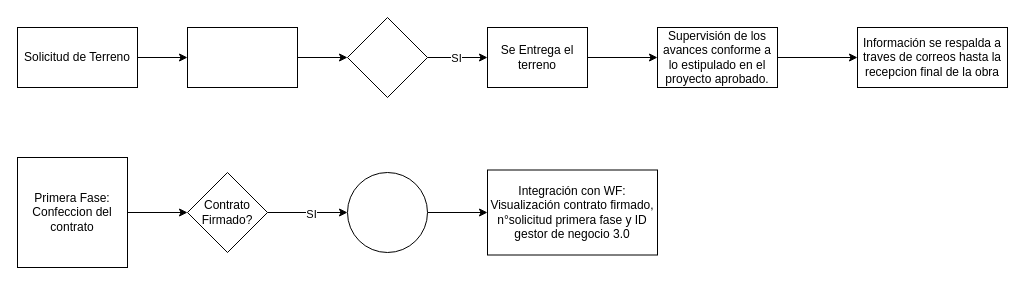
Image size: 1025x285. Some labels were removed from this diagram. Each missing label, with the centre of its shape:
"Antecedentes administrativos" belongs at pixel 242 57.
"Cumple?" belongs at pixel 387 57.
"Inicio Fase 2" belongs at pixel 387 212.
